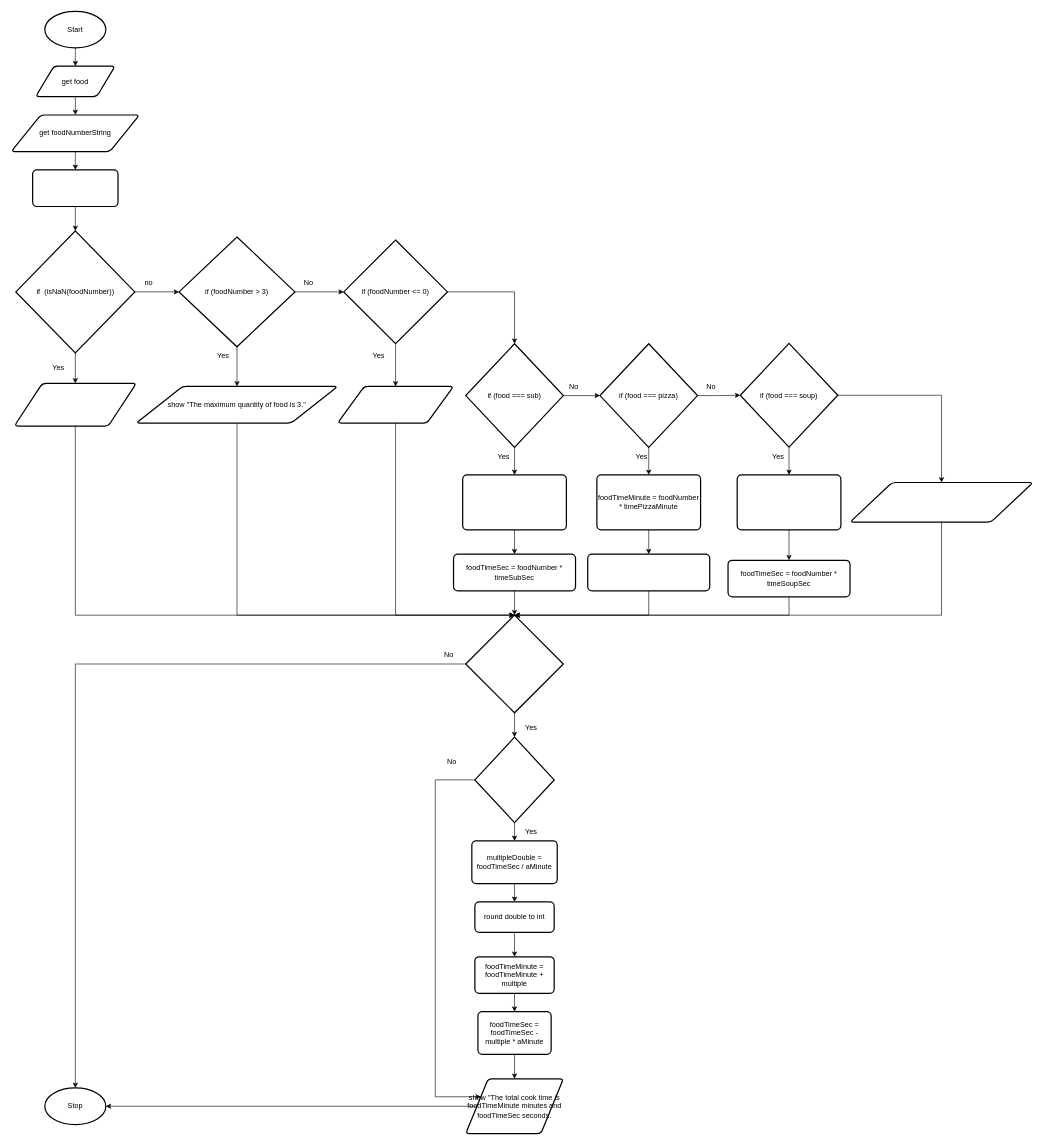
This 1044x1144 diagram has some shape labels left out. Each missing label, with the centre of its shape:
convert string to int: (x=75, y=188)
foodTimeMinute = foodNumber * timeSoupMinute: (x=788, y=502)
foodTimeMinute = foodNumber * timeSubMinute: (x=514, y=502)
foodTimeSec = foodNumber * timePizzaSec: (x=648, y=572)
if (foodTimeMinute >=0 && foodTimeSec >= 0): (x=514, y=663)
if (foodTimeSec >= aMinute): (x=514, y=779)
show "Invalid number!": (x=75, y=404)
show "Please choose a food in options!": (x=941, y=502)
show "Please enter a positive number!": (x=395, y=404)
